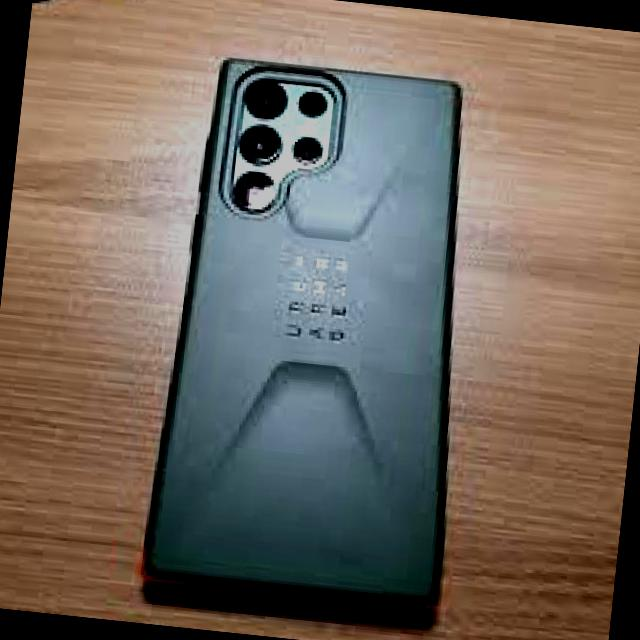lens_back: (236, 72, 292, 124), (228, 166, 277, 216), (235, 119, 287, 166), (292, 84, 332, 124), (288, 130, 326, 170)
phone: (136, 48, 502, 624)
